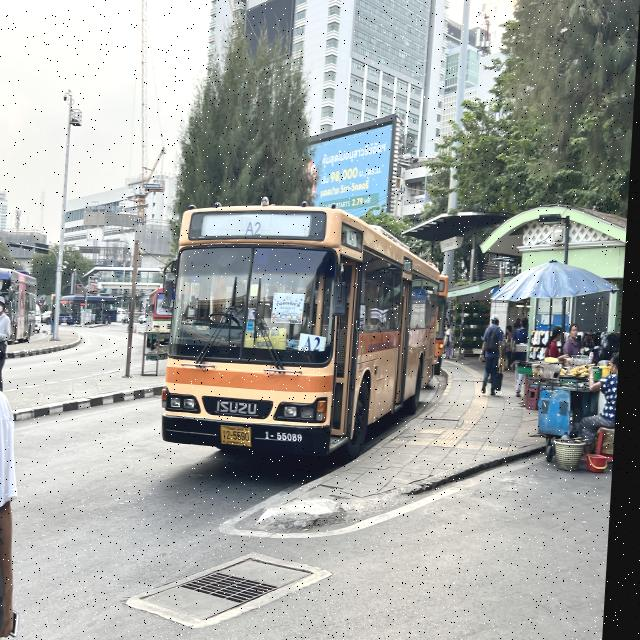BMTA-bus: (162, 204, 450, 459)
Bus-Line-Number: (245, 218, 271, 238)
Destination-Sign-Normal: (301, 333, 331, 358)
